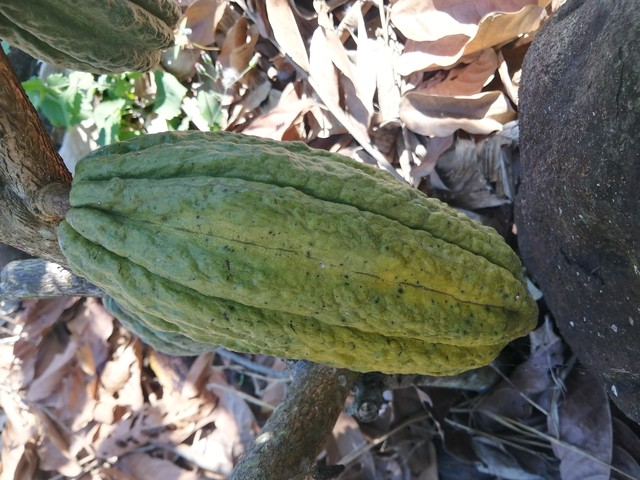Health: (39, 121, 565, 403)
